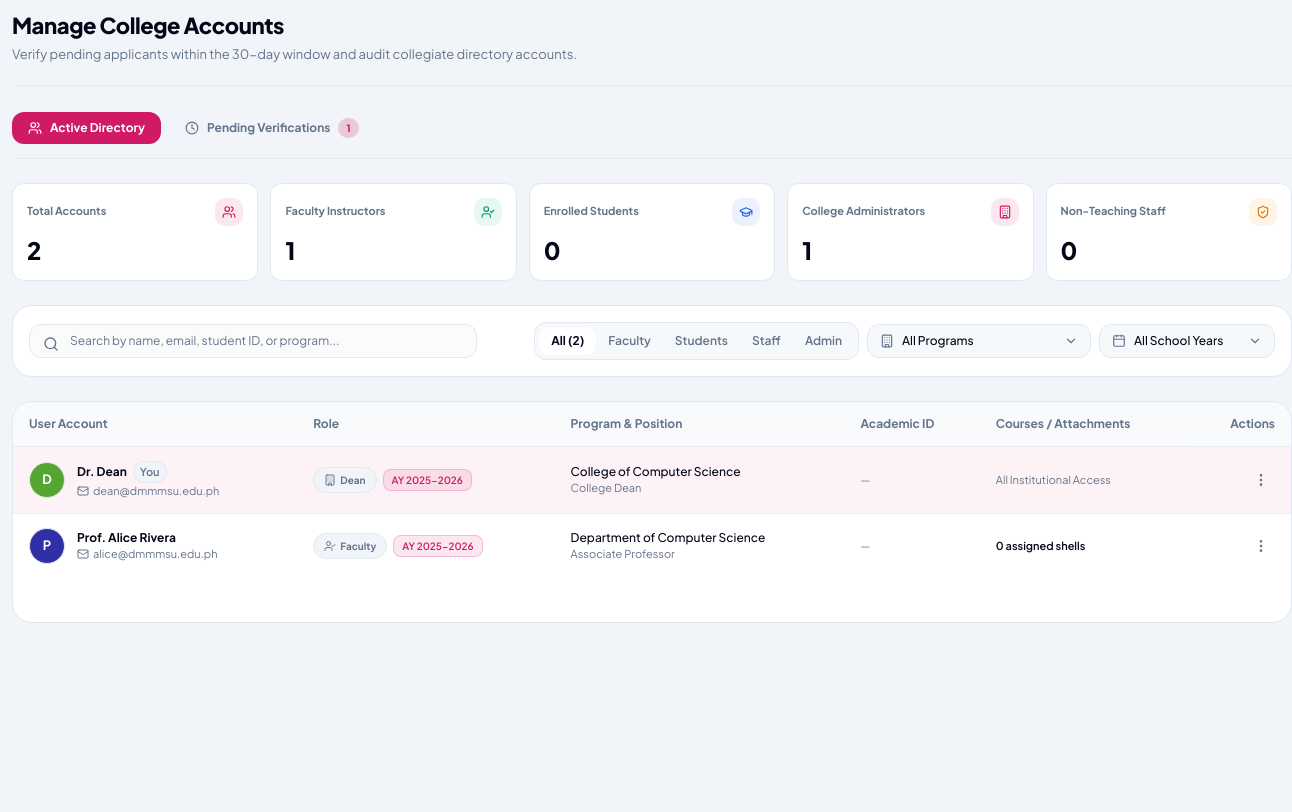
it: ManageAccountsPage RBAC & Verification Queue › 2. verifies "Verification Queue" tab displays pending applicants with "Expires in X days" badge
Note: Click "Pending Verifications" or "Verification Queue" tab
Step 1. Click the tab "Pending Verifications 1" → [272, 128], box [169,110,375,146]
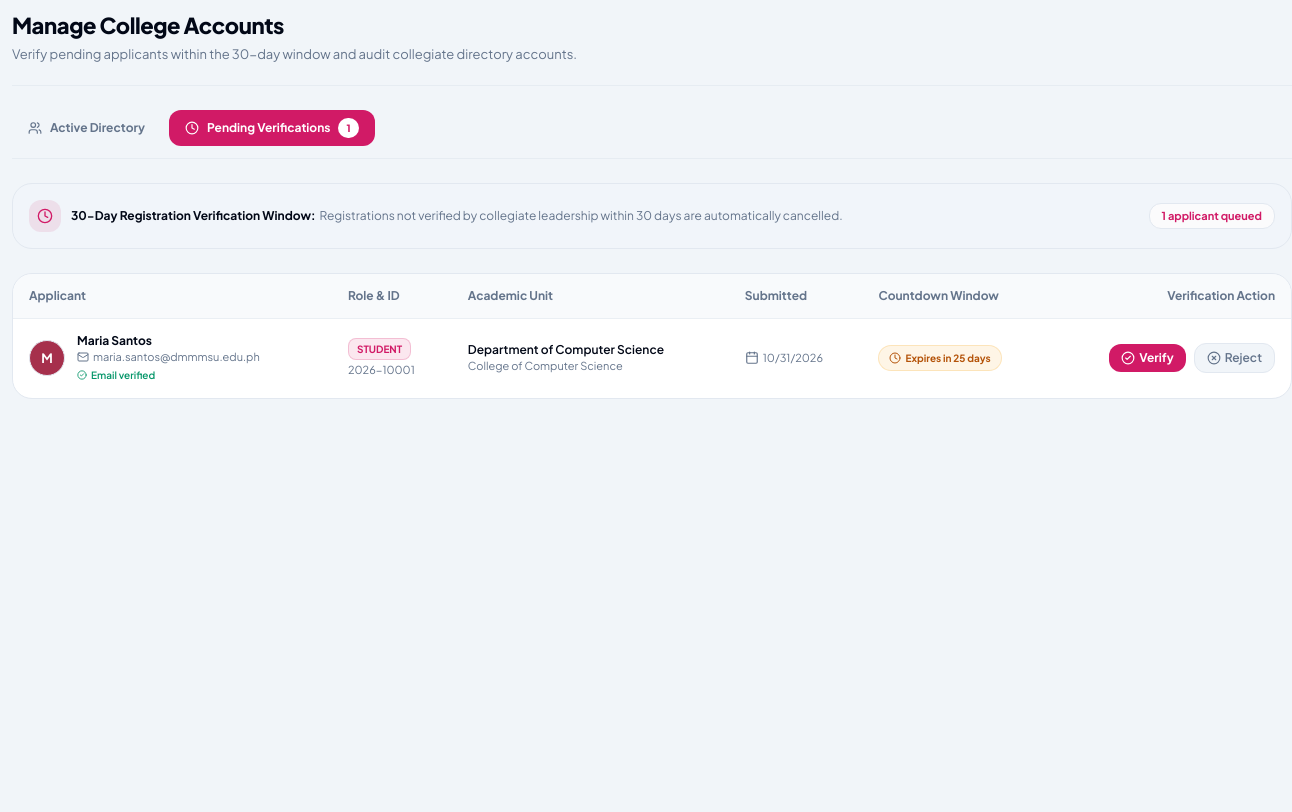
expect the text "Maria Santos" is shown: met, box [77,333,152,348]
expect the text "maria.santos@dmmmsu.edu.ph" is shown: met, box [93,349,260,365]
expect the text "Expires in 25 days" is shown: met, box [906,350,991,366]
